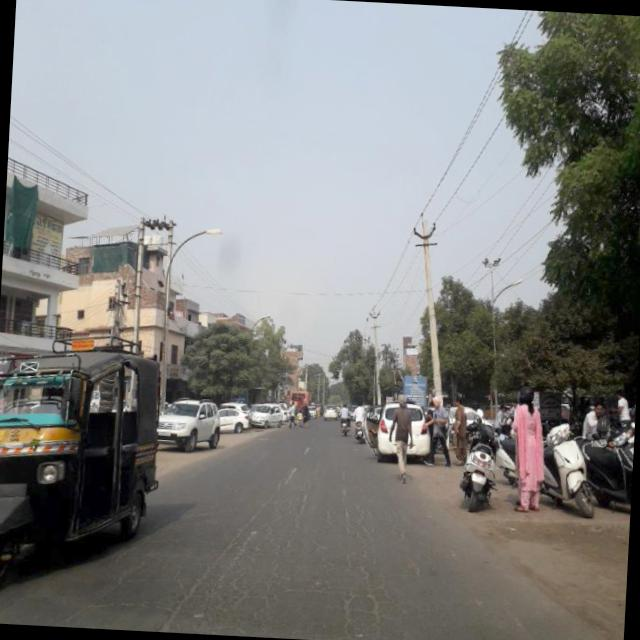crack: (86, 548, 420, 640), (222, 469, 296, 556), (162, 552, 228, 633)
